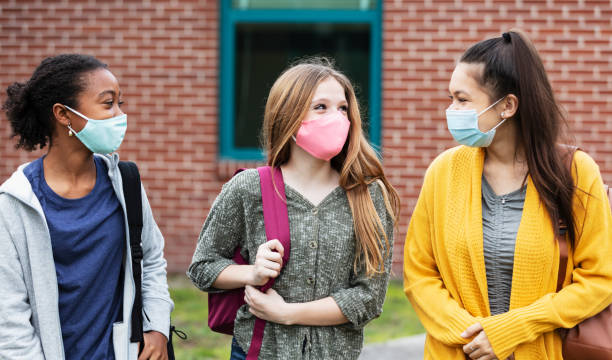with mask: (264, 52, 361, 159), (40, 54, 128, 154), (440, 61, 511, 150)
